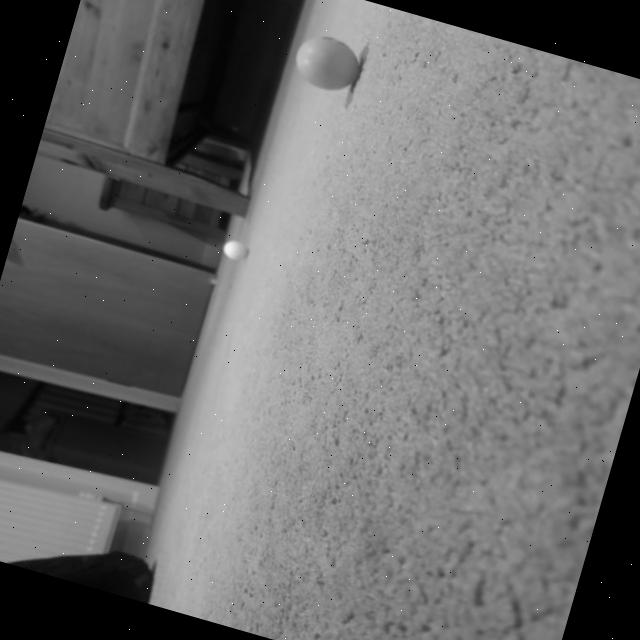ping-pong-ball: (278, 19, 378, 104), (218, 234, 253, 266)
